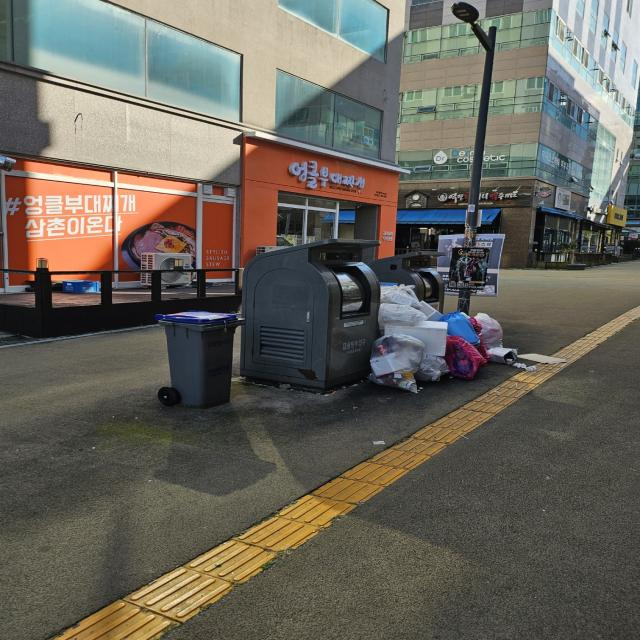CleanNet: (241, 239, 379, 390), (366, 252, 444, 317)
General Waste: (369, 284, 520, 390)
